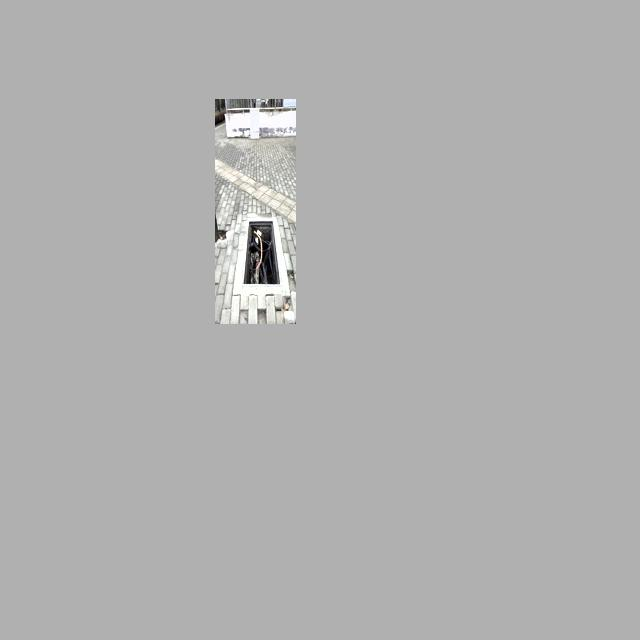lose: (244, 211, 281, 288)
